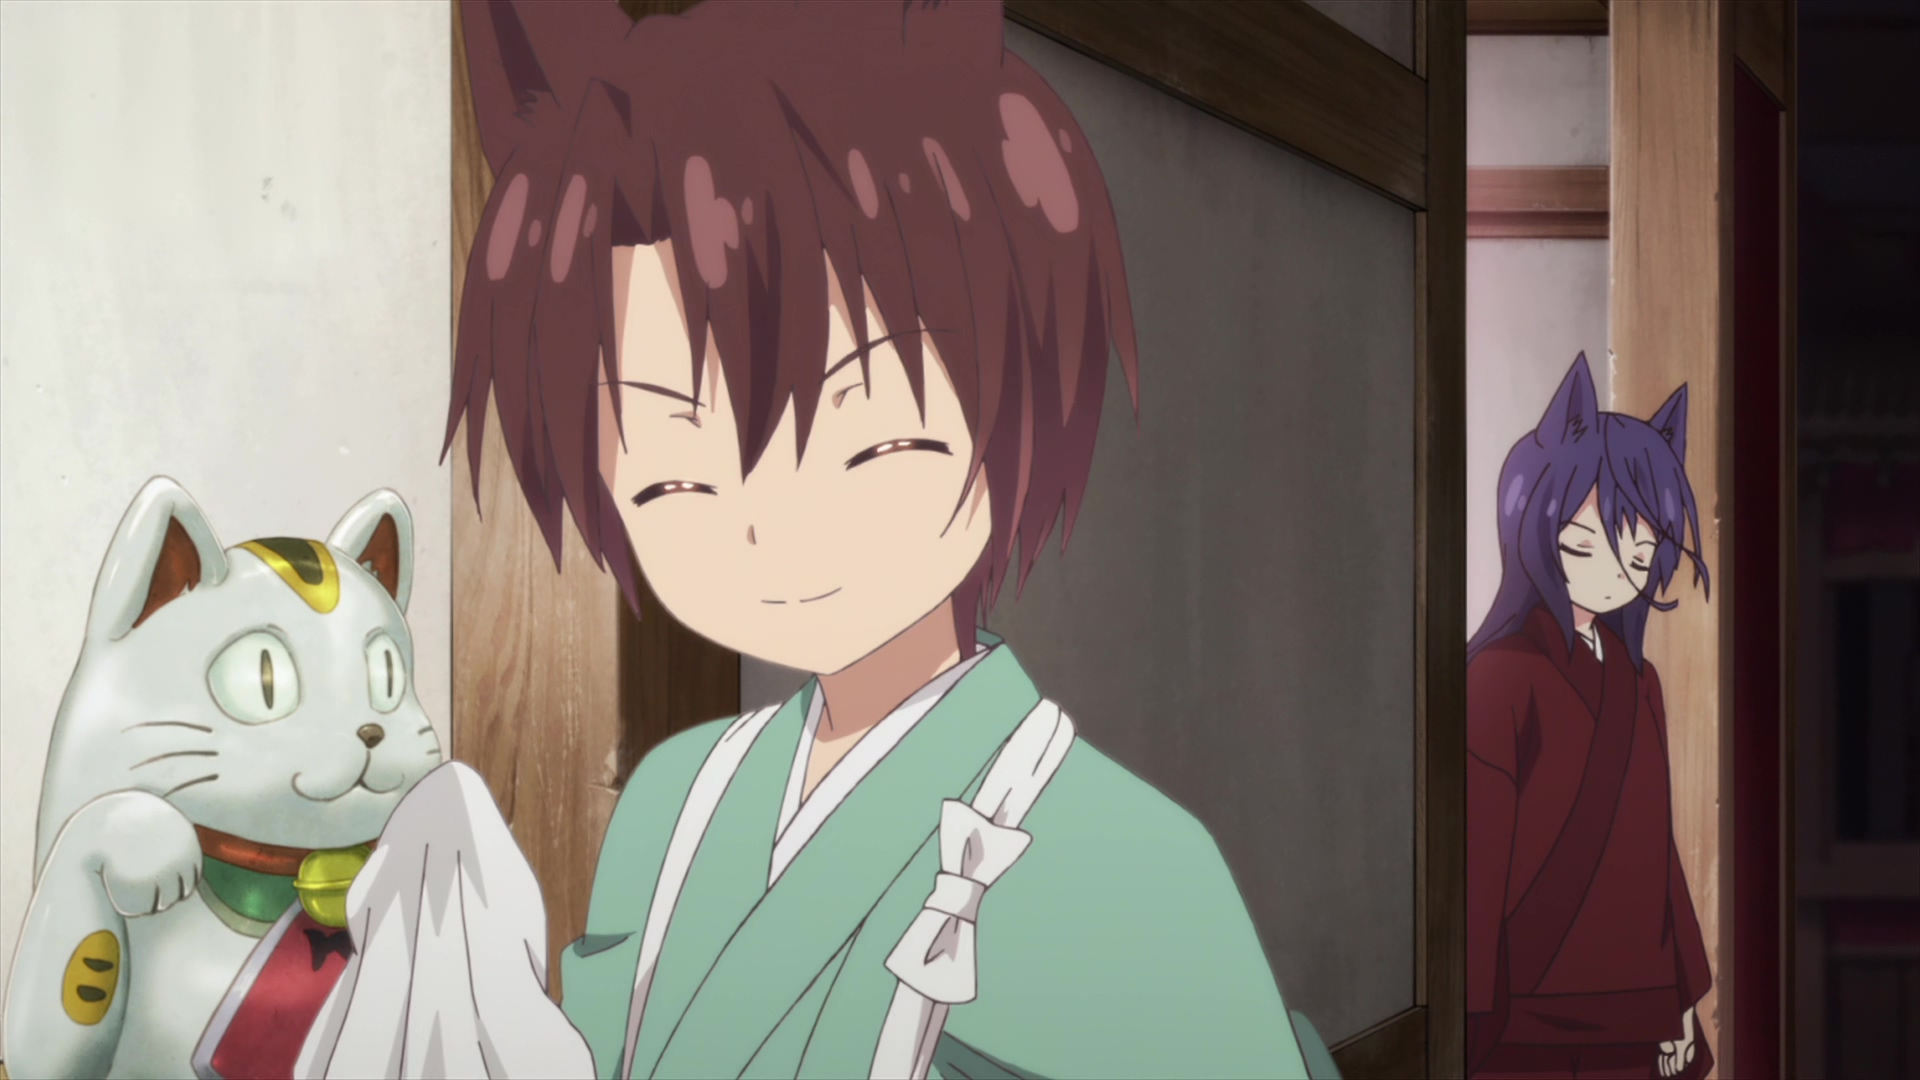枣: (436, 1, 1342, 1080)
皋: (1466, 349, 1716, 1080)
